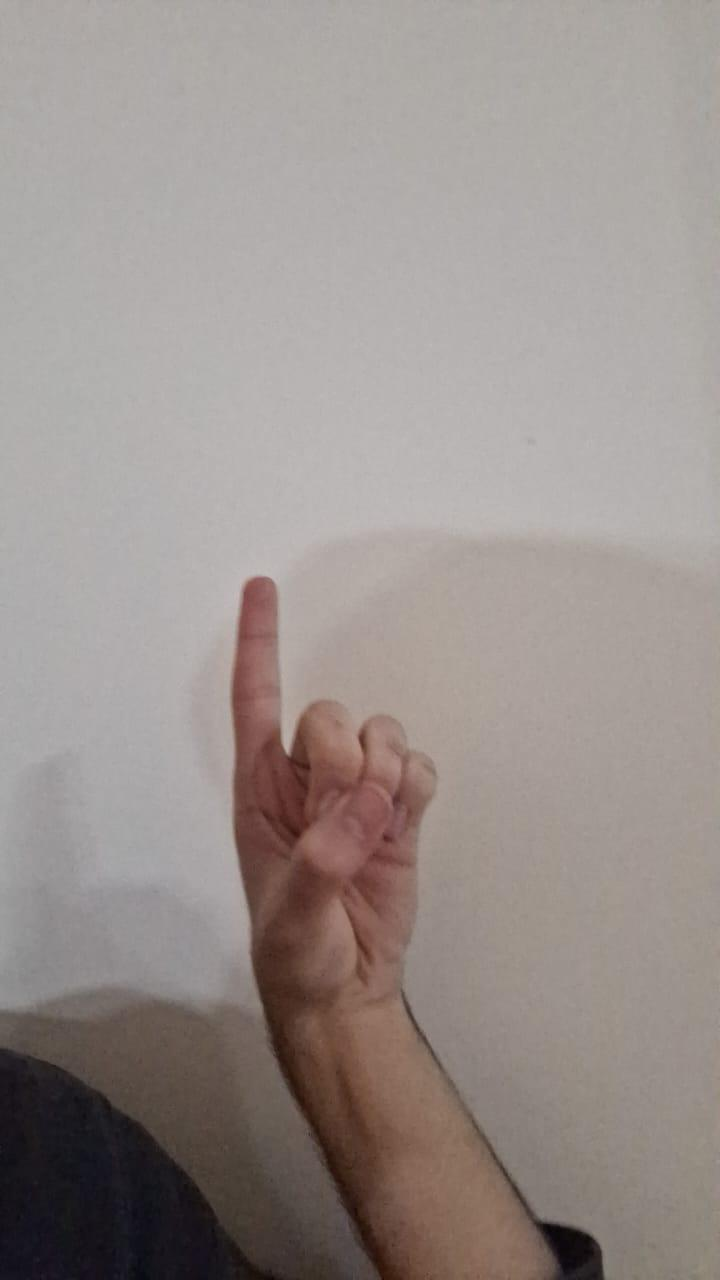D2: (207, 553, 447, 1017)
